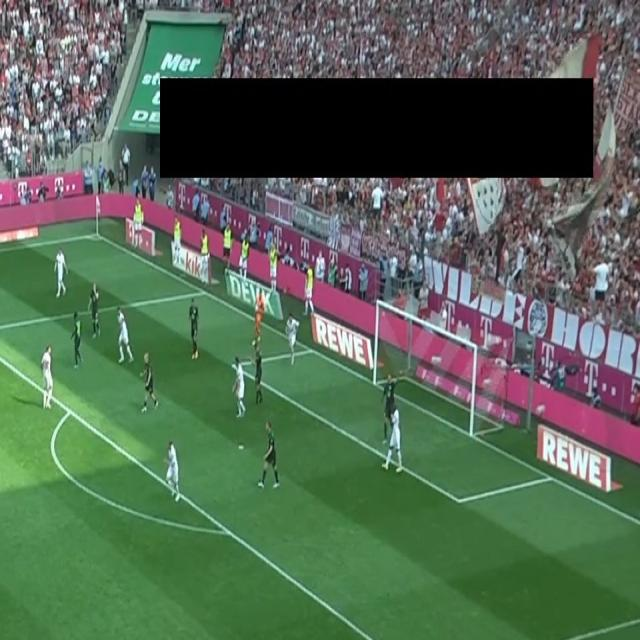ball: (254, 304, 259, 313)
